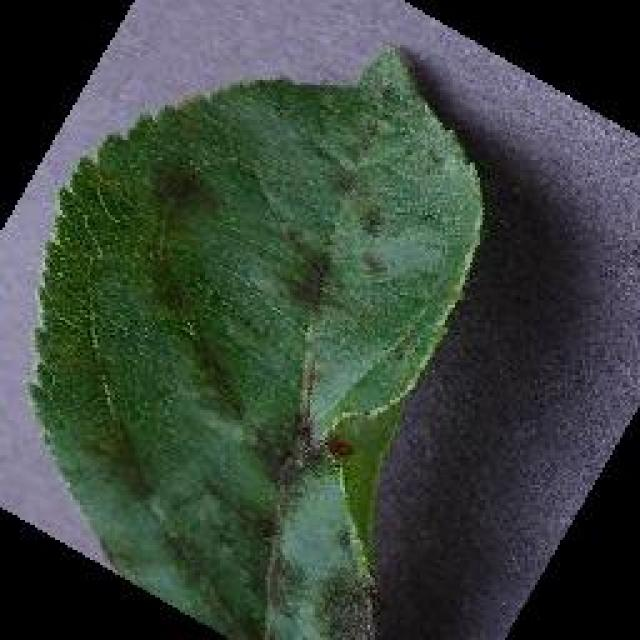apple scab disease: (25, 40, 487, 638)
